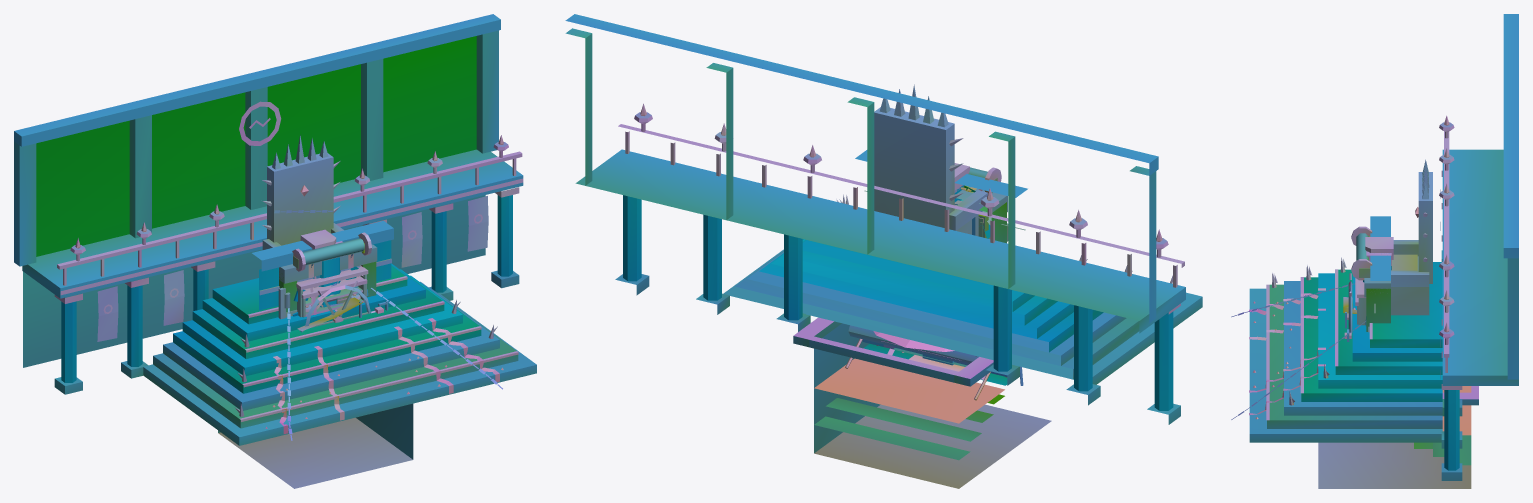
The model's file is kit_vault.glb.
3 renders of one model, left to right at view 1: azimuth 30°, elevation 25°; view 2: azimuth 150°, elevation 25°; view 3: azimuth 270°, elevation 25°, orthographic. The views are drawn at different scales.
Parts seen in each view (by area): view 1: vlt_throne_hollow, vlt_stairs_flooded, vlt_throne_hollow.seat, vlt_door_arch_iron, vlt_door_sluice, vlt_wall_shelf_2m, vlt_door_secret.panel, vlt_wheel_sluice.wheel, vlt_raft_merchant; view 2: vlt_throne_hollow, vlt_stairs_flooded, vlt_throne_hollow.seat, vlt_door_sluice, vlt_raft_merchant, vlt_door_arch_iron; view 3: vlt_throne_hollow, vlt_stairs_flooded, vlt_throne_hollow.seat, vlt_door_sluice, vlt_door_arch_iron, vlt_wall_corner_in, vlt_wall_shelf_2m.
Boxes of the visible parts, box(x1,y1,x2,y2) form: vlt_throne_hollow: box(14, 14, 536, 445); vlt_stairs_flooded: box(218, 403, 413, 488); vlt_throne_hollow.seat: box(262, 135, 343, 249); vlt_door_arch_iron: box(252, 221, 393, 310); vlt_door_sluice: box(259, 232, 390, 312); vlt_wall_shelf_2m: box(296, 266, 368, 317); vlt_door_secret.panel: box(301, 276, 367, 317); vlt_wheel_sluice.wheel: box(299, 280, 375, 330); vlt_raft_merchant: box(297, 297, 388, 332); vlt_throne_hollow: box(565, 14, 1202, 424); vlt_stairs_flooded: box(793, 317, 1051, 488); vlt_throne_hollow.seat: box(874, 84, 987, 236); vlt_door_sluice: box(956, 167, 1007, 243); vlt_raft_merchant: box(848, 325, 1023, 385); vlt_door_arch_iron: box(855, 150, 1027, 230); vlt_throne_hollow: box(1231, 14, 1518, 480); vlt_stairs_flooded: box(1318, 386, 1478, 488); vlt_throne_hollow.seat: box(1391, 159, 1432, 315); vlt_door_sluice: box(1351, 226, 1390, 331); vlt_door_arch_iron: box(1368, 216, 1390, 313); vlt_wall_corner_in: box(1365, 237, 1393, 270); vlt_wall_shelf_2m: box(1357, 279, 1366, 325).
Bounding box in the file's own units: 14.5 × 9.5 × 7.54.
